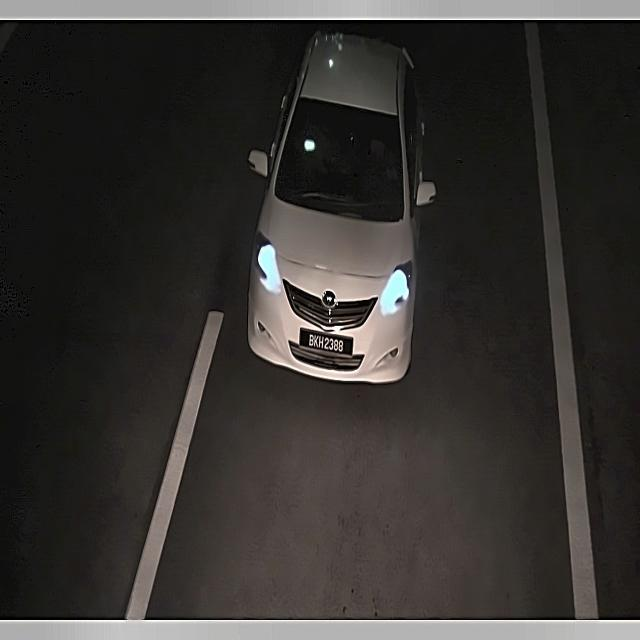car: (296, 320, 357, 363)
